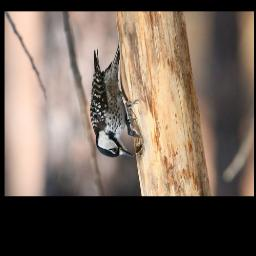Woodpecker: (90, 45, 140, 159)
